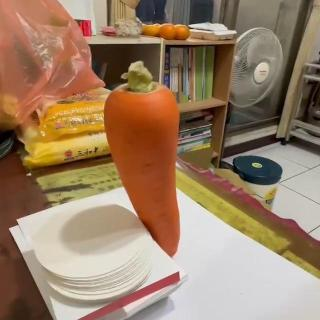carrot: (104, 62, 182, 258)
